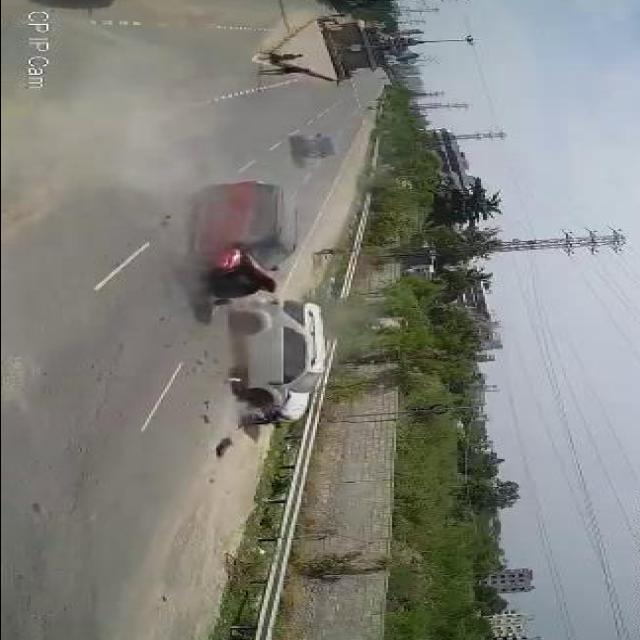accident: (162, 168, 354, 462)
